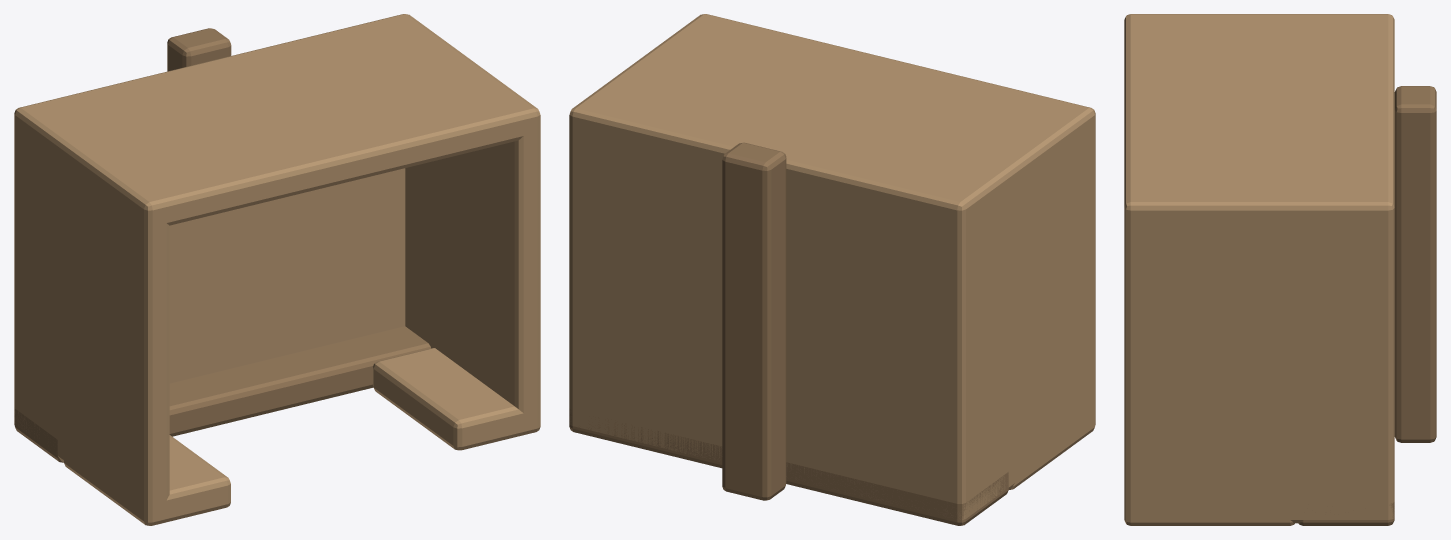
File: wood_helmet_held.gltf
3 views of the same model, side by side, from view 1: azimuth 30°, elevation 25°; view 2: azimuth 150°, elevation 25°; view 3: azimuth 270°, elevation 25° (orthographic).
Parts seen in each view (by area): view 1: armor_wood_helmet_held; view 2: armor_wood_helmet_held; view 3: armor_wood_helmet_held.
Part boxes in pixels (<box>): armor_wood_helmet_held: <box>14,14,540,525</box>; armor_wood_helmet_held: <box>569,14,1095,525</box>; armor_wood_helmet_held: <box>1124,14,1436,525</box>.
Size of the model in its own units: 0.13 by 0.1061 by 0.0889.
